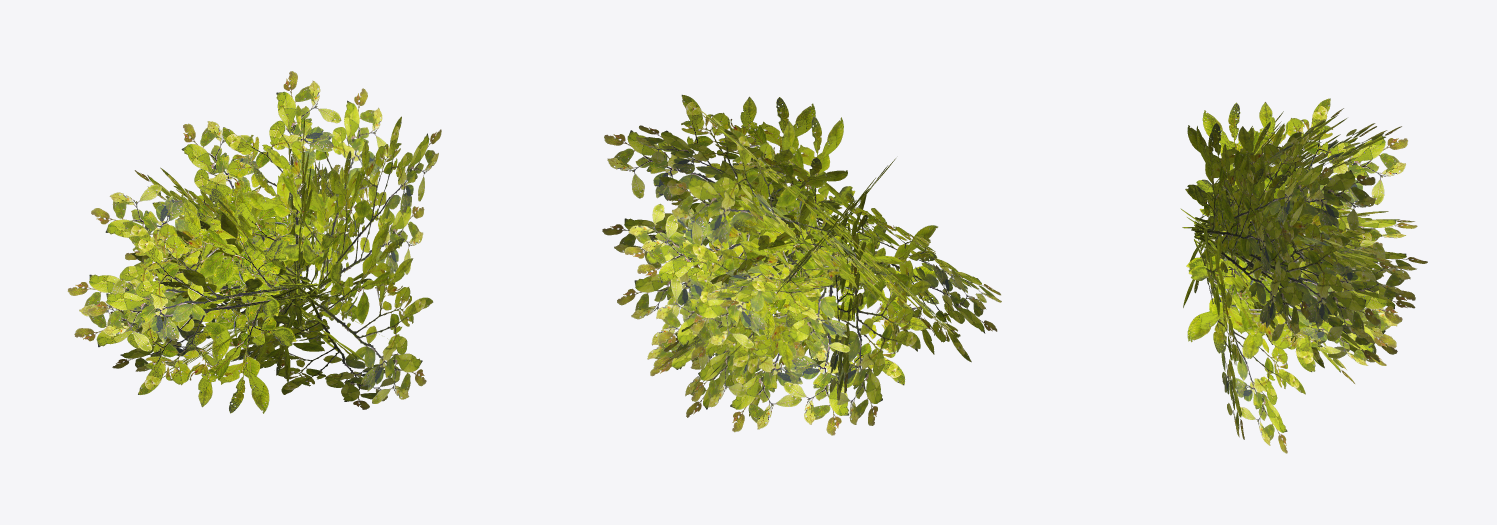
Rendered from bush_003.fbx.
3 renders of one model, left to right at view 1: azimuth 30°, elevation 25°; view 2: azimuth 150°, elevation 25°; view 3: azimuth 270°, elevation 25°, orthographic. The views are drawn at different scales.
Visible parts, largest first — view 1: main; view 2: main; view 3: main.
Part boxes in pixels (x1,y1,x2,y2): main: [67, 71, 441, 413]; main: [602, 94, 1001, 435]; main: [1180, 98, 1427, 453].
Bounding box in the file's own units: 234 × 219 × 168.
